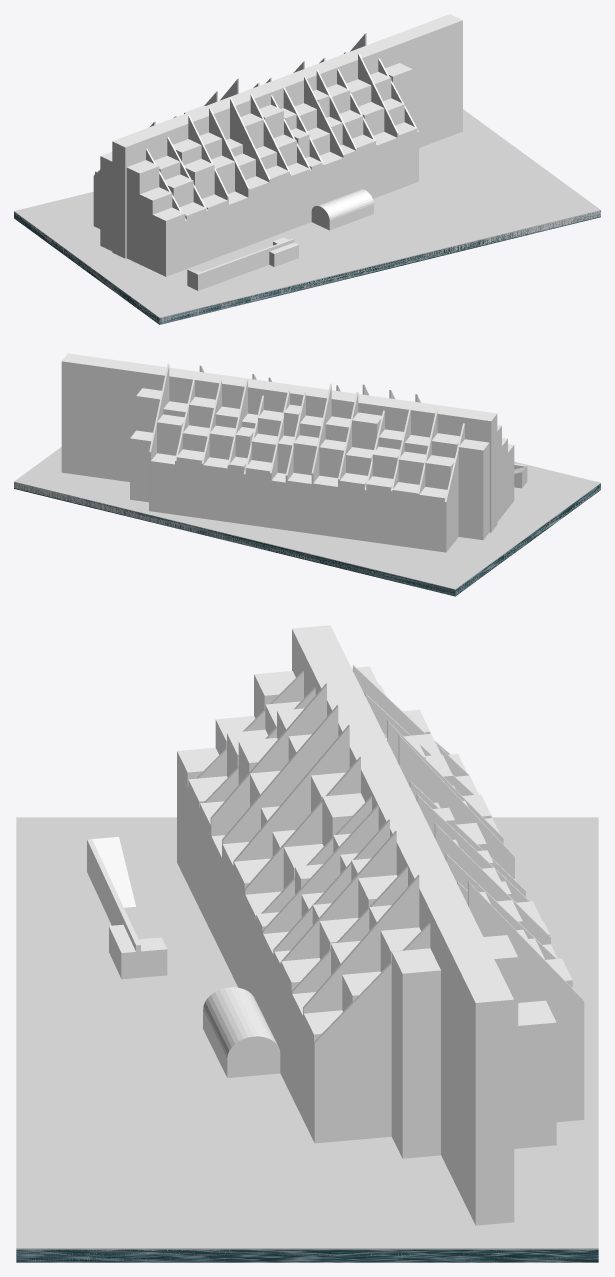
File: marlfanim.glb
3 renders of one model, top to bottom at view 1: azimuth 30°, elevation 25°; view 2: azimuth 150°, elevation 25°; view 3: azimuth 270°, elevation 25°, orthographic. The views are drawn at different scales.
Parts seen in each view (by area): view 1: map_17.osm_buildings, Cube.001, Cube; view 2: map_17.osm_buildings, Cube.001, Cube; view 3: map_17.osm_buildings, Cube.001, Cube.
Boxes of the visible parts, box(x1,y1,x2,y2) form: map_17.osm_buildings: box(93, 14, 462, 290); Cube.001: box(14, 109, 600, 323); Cube: box(14, 210, 600, 324); map_17.osm_buildings: box(61, 353, 527, 552); Cube.001: box(14, 447, 600, 595); Cube: box(14, 483, 600, 596); map_17.osm_buildings: box(87, 625, 584, 1225); Cube.001: box(16, 817, 598, 1260); Cube: box(16, 1249, 598, 1262).
Size of the model in its own units: 0.2958 by 0.0857 by 0.169.
6 materials, 1 textured.
